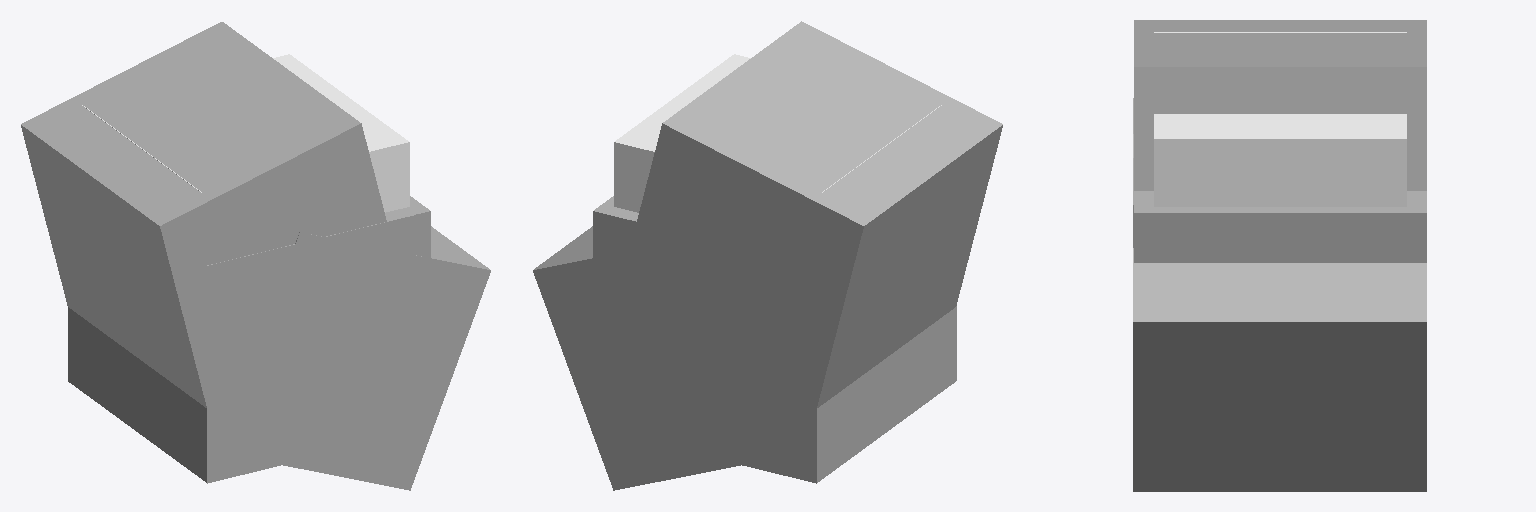
The robot description file, URDF, robot "clpai_12dof_0905":
<?xml version="1.0" encoding="utf-8"?>
<!--
This URDF was automatically created by SolidWorks to URDF Exporter! Originally created by [author] ([email redacted])
Commit Version: 1.6.0-4-g7f85cfe  Build Version: 1.6.7995.38578
For more information, please see http://wiki.ros.org/sw_urdf_exporter
-->
<robot name="clpai_12dof_0905">
	<!--
	<transmission name="l_hip_pitch_tran">
	<type>
	transmission_interface/SimpleTransmission
	</type>
	<joint name="l_hip_pitch_joint">
	<hardwareInterface>
	hardware_interface/EffortJointInterface
	</hardwareInterface>
	</joint>
	<actuator name="l_hip_pitch_motor">
	<hardwareInterface>
	hardware_interface/EffortJointInterface
	</hardwareInterface>
	<mechanicalReduction>
	1
	</mechanicalReduction>
	</actuator>
	</transmission>
	<transmission name="l_hip_roll_tran">
	<type>
	transmission_interface/SimpleTransmission
	</type>
	<joint name="l_hip_roll_joint">
	<hardwareInterface>
	hardware_interface/EffortJointInterface
	</hardwareInterface>
	</joint>
	<actuator name="l_hip_roll_motor">
	<hardwareInterface>
	hardware_interface/EffortJointInterface
	</hardwareInterface>
	<mechanicalReduction>
	1
	</mechanicalReduction>
	</actuator>
	</transmission>
	<transmission name="l_thigh_tran">
	<type>
	transmission_interface/SimpleTransmission
	</type>
	<joint name="l_thigh_joint">
	<hardwareInterface>
	hardware_interface/EffortJointInterface
	</hardwareInterface>
	</joint>
	<actuator name="l_thigh_motor">
	<hardwareInterface>
	hardware_interface/EffortJointInterface
	</hardwareInterface>
	<mechanicalReduction>
	1
	</mechanicalReduction>
	</actuator>
	</transmission>
	<transmission name="l_calf_tran">
	<type>
	transmission_interface/SimpleTransmission
	</type>
	<joint name="l_calf_joint">
	<hardwareInterface>
	hardware_interface/EffortJointInterface
	</hardwareInterface>
	</joint>
	<actuator name="l_calf_motor">
	<hardwareInterface>
	hardware_interface/EffortJointInterface
	</hardwareInterface>
	<mechanicalReduction>
	1
	</mechanicalReduction>
	</actuator>
	</transmission>
	<transmission name="l_ankle_pitch_tran">
	<type>
	transmission_interface/SimpleTransmission
	</type>
	<joint name="l_ankle_pitch_joint">
	<hardwareInterface>
	hardware_interface/EffortJointInterface
	</hardwareInterface>
	</joint>
	<actuator name="l_ankle_pitch_motor">
	<hardwareInterface>
	hardware_interface/EffortJointInterface
	</hardwareInterface>
	<mechanicalReduction>
	1
	</mechanicalReduction>
	</actuator>
	</transmission>
	<transmission name="l_ankle_roll_tran">
	<type>
	transmission_interface/SimpleTransmission
	</type>
	<joint name="l_ankle_roll_joint">
	<hardwareInterface>
	hardware_interface/EffortJointInterface
	</hardwareInterface>
	</joint>
	<actuator name="l_ankle_roll_motor">
	<hardwareInterface>
	hardware_interface/EffortJointInterface
	</hardwareInterface>
	<mechanicalReduction>
	1
	</mechanicalReduction>
	</actuator>
	</transmission>
	<transmission name="r_hip_pitch_tran">
	<type>
	transmission_interface/SimpleTransmission
	</type>
	<joint name="r_hip_pitch_joint">
	<hardwareInterface>
	hardware_interface/EffortJointInterface
	</hardwareInterface>
	</joint>
	<actuator name="r_hip_pitch_motor">
	<hardwareInterface>
	hardware_interface/EffortJointInterface
	</hardwareInterface>
	<mechanicalReduction>
	1
	</mechanicalReduction>
	</actuator>
	</transmission>
	<transmission name="r_hip_roll_tran">
	<type>
	transmission_interface/SimpleTransmission
	</type>
	<joint name="r_hip_roll_joint">
	<hardwareInterface>
	hardware_interface/EffortJointInterface
	</hardwareInterface>
	</joint>
	<actuator name="r_hip_roll_motor">
	<hardwareInterface>
	hardware_interface/EffortJointInterface
	</hardwareInterface>
	<mechanicalReduction>
	1
	</mechanicalReduction>
	</actuator>
	</transmission>
	<transmission name="r_thigh_tran">
	<type>
	transmission_interface/SimpleTransmission
	</type>
	<joint name="r_thigh_joint">
	<hardwareInterface>
	hardware_interface/EffortJointInterface
	</hardwareInterface>
	</joint>
	<actuator name="r_thigh_motor">
	<hardwareInterface>
	hardware_interface/EffortJointInterface
	</hardwareInterface>
	<mechanicalReduction>
	1
	</mechanicalReduction>
	</actuator>
	</transmission>
	<transmission name="r_calf_tran">
	<type>
	transmission_interface/SimpleTransmission
	</type>
	<joint name="r_calf_joint">
	<hardwareInterface>
	hardware_interface/EffortJointInterface
	</hardwareInterface>
	</joint>
	<actuator name="r_calf_motor">
	<hardwareInterface>
	hardware_interface/EffortJointInterface
	</hardwareInterface>
	<mechanicalReduction>
	1
	</mechanicalReduction>
	</actuator>
	</transmission>
	<transmission name="r_ankle_pitch_tran">
	<type>
	transmission_interface/SimpleTransmission
	</type>
	<joint name="r_ankle_pitch_joint">
	<hardwareInterface>
	hardware_interface/EffortJointInterface
	</hardwareInterface>
	</joint>
	<actuator name="r_ankle_pitch_motor">
	<hardwareInterface>
	hardware_interface/EffortJointInterface
	</hardwareInterface>
	<mechanicalReduction>
	1
	</mechanicalReduction>
	</actuator>
	</transmission>
	<transmission name="r_ankle_roll_tran">
	<type>
	transmission_interface/SimpleTransmission
	</type>
	<joint name="r_ankle_roll_joint">
	<hardwareInterface>
	hardware_interface/EffortJointInterface
	</hardwareInterface>
	</joint>
	<actuator name="r_ankle_roll_motor">
	<hardwareInterface>
	hardware_interface/EffortJointInterface
	</hardwareInterface>
	<mechanicalReduction>
	1
	</mechanicalReduction>
	</actuator>
	</transmission>
	-->
	<!--
	<gazebo>
	<plugin name="gazebo_ros_control" filename="libgazebo_ros_control.so">
	<robotNamespace>
	/pai_cl_12_240823
	</robotNamespace>
	<robotSimType>
	gazebo_ros_control/DefaultRobotHWSim
	</robotSimType>
	</plugin>
	</gazebo>
	-->
	<mujoco>
		<compiler meshdir="meshes/" balanceinertia="true" discardvisual="false" />
	</mujoco>
	<!-- <link name="base_link">
		<inertial>
			<origin xyz="0 0 0" rpy="0 0 0" />
			<mass value="0" />
			<inertia ixx="0" ixy="0" ixz="0" iyy="0" iyz="0" izz="0" />
		</inertial>
		<visual>
			<origin xyz="0 0 0" rpy="0 0 0" />
			<geometry>
				<box size="0.001 0.001 0.001" />
			</geometry>
			<material name="">
				<color rgba="1 1 1 1" />
			</material>
		</visual>
		<collision>
			<origin xyz="0 0 0.0" rpy="0 0 0" />
			<geometry>
				<box size="0.0001 0.0001 0.0001" />
			</geometry>
		</collision>
	</link> -->
	<!-- <joint name="base_joint" type="fixed">
		<origin xyz="0.0 0.0 0.0" rpy="0.0 0.0 0.0" />
		<parent link="base_link" />
		<child link="base_trunk" />
	</joint> -->
	<link name="base_link">
		<inertial>
			<origin xyz="0.00242324 -5.699E-05 0.04030078" rpy="0 0 0" />
			<mass value="2.1609" />
			<inertia ixx="0.00900968" ixy="-2.533E-05" ixz="-0.00013112" iyy="0.00978166" iyz="2E-07" izz="0.00416554" />
		</inertial>
		<visual>
			<origin xyz="0 0 0" rpy="0 0 0" />
			<geometry>
				<!-- <box size="0.1 0.1 0.1" /> -->
				<mesh filename="meshes/baselink_1.STL" />
			</geometry>
			<material name="">
				<color rgba="1 1 1 1" />
			</material>
		</visual>
		<collision>
			<origin xyz="0 0 0.08" rpy="0 0 0" />
			<geometry>
				<box size="0.1 0.1 0.1" />
				<!-- <mesh filename="meshes/base_link.STL" /> -->
			</geometry>
		</collision>
	</link>
	<link name="imu_link">
		<inertial>
			<origin xyz="0 0 0" rpy="0 0 0" />
			<mass value="0.01" />
			<inertia ixx="4.1667E-07" ixy="0" ixz="0" iyy="8.3333E-07" iyz="0" izz="1.0833E-06" />
		</inertial>
		<visual>
			<origin xyz="0 0 0" rpy="0 0 0" />
			<geometry>
				<box size="0.03 0.02 0.01" />
			</geometry>
			<material name="">
				<color rgba="0.1 0.1 0.1 1" />
			</material>
		</visual>
		<collision>
			<origin xyz="0 0 0" rpy="0 0 0" />
			<geometry>
				<box size="0.03 0.02 0.01" />
			</geometry>
		</collision>
	</link>
	<joint name="imu_joint" type="fixed">
		<origin xyz="0 0 0.05" rpy="0 0 0" />
		<parent link="base_link" />
		<child link="imu_link" />
	</joint>
	<link name="camera_mount_link">
		<inertial>
			<origin xyz="0 0 0" rpy="0 0 0" />
			<mass value="0.02" />
			<inertia ixx="5.3333E-06" ixy="0" ixz="0" iyy="5.3333E-06" iyz="0" izz="5.3333E-06" />
		</inertial>
		<visual>
			<origin xyz="0 0 0" rpy="0 0 0" />
			<geometry>
				<box size="0.04 0.04 0.04" />
			</geometry>
			<material name="">
				<color rgba="0.05 0.05 0.05 1" />
			</material>
		</visual>
		<collision>
			<origin xyz="0 0 0" rpy="0 0 0" />
			<geometry>
				<box size="0.04 0.04 0.04" />
			</geometry>
		</collision>
	</link>
	<joint name="camera_mount_joint" type="fixed">
		<origin xyz="0.12 0 0.15" rpy="0 0 0" />
		<parent link="base_link" />
		<child link="camera_mount_link" />
	</joint>
	<link name="camera_optical_frame">
		<inertial>
			<origin xyz="0 0 0" rpy="0 0 0" />
			<mass value="1E-05" />
			<inertia ixx="1E-07" ixy="0" ixz="0" iyy="1E-07" iyz="0" izz="1E-07" />
		</inertial>
		<visual>
			<origin xyz="0 0 0" rpy="0 0 0" />
			<geometry>
				<sphere radius="0.001" />
			</geometry>
		</visual>
		<collision>
			<origin xyz="0 0 0" rpy="0 0 0" />
			<geometry>
				<sphere radius="0.001" />
			</geometry>
		</collision>
	</link>
	<joint name="camera_optical_joint" type="fixed">
		<origin xyz="0 0 0" rpy="-1.57079632679 0 -1.57079632679" />
		<parent link="camera_mount_link" />
		<child link="camera_optical_frame" />
	</joint>
	<gazebo reference="imu_link">
		<sensor type="imu" name="base_imu">
			<pose>0 0 0 0 0 0</pose>
			<always_on>true</always_on>
			<update_rate>200</update_rate>
			<plugin name="imu_plugin" filename="libgazebo_ros_imu_sensor.so">
				<robotNamespace>/clpai_12dof_0905</robotNamespace>
				<bodyName>imu_link</bodyName>
				<topicName>imu/data</topicName>
				<frameName>imu_link</frameName>
			</plugin>
		</sensor>
	</gazebo>
	<gazebo reference="camera_mount_link">
		<sensor type="camera" name="front_camera">
			<pose>0 0 0 0 0 0</pose>
			<always_on>true</always_on>
			<update_rate>30</update_rate>
			<camera name="front_camera_sensor">
				<horizontal_fov>1.047</horizontal_fov>
				<image>
					<width>1280</width>
					<height>720</height>
					<format>R8G8B8</format>
				</image>
				<clip>
					<near>0.1</near>
					<far>50</far>
				</clip>
			</camera>
			<plugin name="camera_controller" filename="libgazebo_ros_camera.so">
				<robotNamespace>/clpai_12dof_0905</robotNamespace>
				<cameraName>front_camera</cameraName>
				<imageTopicName>image_raw</imageTopicName>
				<cameraInfoTopicName>camera_info</cameraInfoTopicName>
				<frameName>camera_optical_frame</frameName>
			</plugin>
		</sensor>
	</gazebo>
	<link name="r_hip_pitch_link">
		<inertial>
			<origin xyz="0.00089428 -0.05527744 -0.00027276" rpy="0 0 0" />
			<mass value="0.36999771" />
			<inertia ixx="8.307E-05" ixy="2E-07" ixz="-5E-08" iyy="9.81E-05" iyz="-7E-07" izz="0.0001085" />
		</inertial>
		<visual>
			<origin xyz="0 0 0" rpy="0 0 0" />
			<geometry>
				<mesh filename="meshes/r_hip_pitch_link.STL" />
			</geometry>
			<material name="">
				<color rgba="0.75294 0.75294 0.75294 1" />
			</material>
		</visual>
		<collision>
			<origin xyz="0 0 0" rpy="0 0 0" />
			<geometry>
				<box size="0.001 0.001 0.001" />
				<!-- <mesh filename="meshes/r_hip_pitch_link.STL" /> -->
			</geometry>
		</collision>
	</link>
	<joint name="r_hip_pitch_joint" type="revolute">
		<origin xyz="-5.1979E-05 -0.0233 -0.033" rpy="0 -0.25 0" />
		<parent link="base_link" />
		<child link="r_hip_pitch_link" />
		<axis xyz="0 1 0" />
		<limit lower="-1.25" upper="1.75" effort="21" velocity="21" />
	</joint>
	<link name="r_hip_roll_link">
		<inertial>
			<origin xyz="-0.00180153 0.00025956 -0.0608194" rpy="0 0 0" />
			<mass value="0.38851552" />
			<inertia ixx="0.00027042" ixy="3.9E-07" ixz="3.312E-05" iyy="0.0003342" iyz="8.7E-07" izz="0.00013617" />
		</inertial>
		<visual>
			<origin xyz="0 0 0" rpy="0 0 0" />
			<geometry>
				<mesh filename="meshes/r_hip_roll_link.STL" />
			</geometry>
			<material name="">
				<color rgba="0.75294 0.75294 0.75294 1" />
			</material>
		</visual>
		<collision>
			<origin xyz="0 0 0" rpy="0 0 0" />
			<geometry>
				<box size="0.001 0.001 0.001" />
				<!-- <mesh filename="meshes/r_hip_roll_link.STL" /> -->
			</geometry>
		</collision>
	</link>
	<joint name="r_hip_roll_joint" type="revolute">
		<origin xyz="0.00025 -0.0568 0" rpy="0 0 0" />
		<parent link="r_hip_pitch_link" />
		<child link="r_hip_roll_link" />
		<axis xyz="1 0 0" />
		<limit lower="-0.5" upper="0.12" effort="21" velocity="21" />
	</joint>
	<link name="r_thigh_link">
		<inertial>
			<origin xyz="0 0.00116854 -0.04755896" rpy="0 0 0" />
			<mass value="0.11270879" />
			<inertia ixx="0.00012496" ixy="0" ixz="0" iyy="5.82E-05" iyz="3.19E-06" izz="9.438E-05" />
		</inertial>
		<visual>
			<origin xyz="0 0 0" rpy="0 0 0" />
			<geometry>
				<mesh filename="meshes/r_thigh_link.STL" />
			</geometry>
			<material name="">
				<color rgba="0.75294 0.75294 0.75294 1" />
			</material>
		</visual>
		<collision>
			<origin xyz="0 0 0" rpy="0 0 0" />
			<geometry>
				<box size="0.001 0.001 0.001" />
				<!-- <mesh filename="meshes/r_thigh_link.STL" /> -->
			</geometry>
		</collision>
	</link>
	<joint name="r_thigh_joint" type="revolute">
		<origin xyz="-0.00025 0 -0.06925" rpy="0 0 0" />
		<parent link="r_hip_roll_link" />
		<child link="r_thigh_link" />
		<axis xyz="0 0 1" />
		<limit lower="-0.6" upper="0.3" effort="21" velocity="21" />
	</joint>
	<link name="r_calf_link">
		<inertial>
			<origin xyz="-0.00026627 -0.00116537 -0.06971210" rpy="0 0 0" />
			<mass value="0.81374212" />
			<inertia ixx="0.00352123" ixy="0.00000020" ixz="-0.00000072" iyy="0.00349946" iyz="-0.00002072" izz="0.00017468" />
		</inertial>
		<visual>
			<origin xyz="0 0 0" rpy="0 0 0" />
			<geometry>
				<mesh filename="meshes/r_calf_link.STL" />
			</geometry>
			<material name="">
				<color rgba="0.75294 0.75294 0.75294 1" />
			</material>
		</visual>
		<collision>
			<origin xyz="0 0 0" rpy="0 0 0" />
			<geometry>
				<box size="0.001 0.001 0.001" />
				<!-- <mesh filename="meshes/r_calf_link.STL" /> -->
			</geometry>
		</collision>
	</link>
	<joint name="r_calf_joint" type="revolute">
		<origin xyz="0 -0.0027 -0.07025" rpy="0 0.65 0" />
		<parent link="r_thigh_link" />
		<child link="r_calf_link" />
		<axis xyz="0 1 0" />
		<limit lower="-0.65" upper="1.65" effort="21" velocity="21" />
	</joint>
	<link name="r_ankle_pitch_link">
		<inertial>
			<origin xyz="0.00467932 0.00347699 0" rpy="0 0 0" />
			<mass value="0.1759244" />
			<inertia ixx="0.00011981" ixy="6.4E-07" ixz="0" iyy="0.00022179" iyz="0" izz="0.00030766" />
		</inertial>
		<visual>
			<origin xyz="0 0 0" rpy="0 0 0" />
			<geometry>
				<mesh filename="meshes/r_ankle_pitch_link.STL" />
			</geometry>
			<material name="">
				<color rgba="0.75294 0.75294 0.75294 1" />
			</material>
		</visual>
		<collision>
			<origin xyz="0 0 0" rpy="0 0 0" />
			<geometry>
				<box size="0.001 0.001 0.001" />
				<!-- <mesh filename="meshes/r_ankle_pitch_link.STL" /> -->
			</geometry>
		</collision>
	</link>
	<joint name="r_ankle_pitch_joint" type="revolute">
		<origin xyz="0 0 -0.14" rpy="0 -0.4 0" />
		<parent link="r_calf_link" />
		<child link="r_ankle_pitch_link" />
		<axis xyz="0 1 0" />
		<limit lower="-0.5" upper="1.3" effort="21" velocity="21" />
	</joint>
	<link name="r_ankle_roll_link">
		<inertial>
			<origin xyz="-0.02383679 0.00019256 -0.0144649" rpy="0 0 0" />
			<mass value="0.51868476" />
			<inertia ixx="0.0003308" ixy="-2.49E-06" ixz="-0.00018245" iyy="0.00113168" iyz="-1.06E-06" izz="0.00098381" />
		</inertial>
		<visual>
			<origin xyz="0 0 0" rpy="0 0 0" />
			<geometry>
				<mesh filename="meshes/r_ankle_roll_link.STL" />
			</geometry>
			<material name="">
				<color rgba="0.75294 0.75294 0.75294 1" />
			</material>
		</visual>
		<collision>
			<origin xyz="0 0 0" rpy="0 0 0" />
			<geometry>
				<mesh filename="meshes/r_ankle_roll_link.STL" />
			</geometry>
		</collision>
	</link>
	<joint name="r_ankle_roll_joint" type="revolute">
		<origin xyz="0.07525 0.0027 0" rpy="0 0 0" />
		<parent link="r_ankle_pitch_link" />
		<child link="r_ankle_roll_link" />
		<axis xyz="1 0 0" />
		<limit lower="-0.3" upper="0.8" effort="21" velocity="21" />
	</joint>
	<link name="l_hip_pitch_link">
		<inertial>
			<origin xyz="0.00086268 0.05441908 -0.00025859" rpy="0 0 0" />
			<mass value="0.38968624" />
			<inertia ixx="0.00010076" ixy="-4.2E-07" ixz="-4E-08" iyy="0.00010507" iyz="-3E-07" izz="0.00012834" />
		</inertial>
		<visual>
			<origin xyz="0 0 0" rpy="0 0 0" />
			<geometry>
				<mesh filename="meshes/l_hip_pitch_link.STL" />
			</geometry>
			<material name="">
				<color rgba="0.75294 0.75294 0.75294 1" />
			</material>
		</visual>
		<collision>
			<origin xyz="0 0 0" rpy="0 0 0" />
			<geometry>
				<box size="0.001 0.001 0.001" />
				<!-- <mesh filename="meshes/l_hip_pitch_link.STL" /> -->
			</geometry>
		</collision>
	</link>
	<joint name="l_hip_pitch_joint" type="revolute">
		<origin xyz="-5.1979E-05 0.0233 -0.033" rpy="0 -0.25 0" />
		<parent link="base_link" />
		<child link="l_hip_pitch_link" />
		<axis xyz="0 1 0" />
		<limit lower="-1.25" upper="1.75" effort="21" velocity="21" />
	</joint>
	<link name="l_hip_roll_link">
		<inertial>
			<origin xyz="-0.00207707 0.00026598 -0.0608194" rpy="0 0 0" />
			<mass value="0.38851552" />
			<inertia ixx="0.00027068" ixy="-7.6E-07" ixz="3.136E-05" iyy="0.0003332" iyz="8.8E-07" izz="0.00013543" />
		</inertial>
		<visual>
			<origin xyz="0 0 0" rpy="0 0 0" />
			<geometry>
				<mesh filename="meshes/l_hip_roll_link.STL" />
			</geometry>
			<material name="">
				<color rgba="0.75294 0.75294 0.75294 1" />
			</material>
		</visual>
		<collision>
			<origin xyz="0 0 0" rpy="0 0 0" />
			<geometry>
				<box size="0.001 0.001 0.001" />
				<!-- <mesh filename="meshes/l_hip_roll_link.STL" /> -->
			</geometry>
		</collision>
	</link>
	<joint name="l_hip_roll_joint" type="revolute">
		<origin xyz="0 0.0568 0" rpy="0 0 0" />
		<parent link="l_hip_pitch_link" />
		<child link="l_hip_roll_link" />
		<axis xyz="1 0 0" />
		<limit lower="-0.12" upper="0.5" effort="21" velocity="21" />
	</joint>
	<link name="l_thigh_link">
		<inertial>
			<origin xyz="0 -0.00115822 -0.04755896" rpy="0 0 0" />
			<mass value="0.11270879" />
			<inertia ixx="0.00012497" ixy="0" ixz="0" iyy="5.82E-05" iyz="-3.21E-06" izz="9.438E-05" />
		</inertial>
		<visual>
			<origin xyz="0 0 0" rpy="0 0 0" />
			<geometry>
				<mesh filename="meshes/l_thigh_link.STL" />
			</geometry>
			<material name="">
				<color rgba="0.75294 0.75294 0.75294 1" />
			</material>
		</visual>
		<collision>
			<origin xyz="0 0 0" rpy="0 0 0" />
			<geometry>
				<box size="0.001 0.001 0.001" />
				<!-- <mesh filename="meshes/l_thigh_link.STL" /> -->
			</geometry>
		</collision>
	</link>
	<joint name="l_thigh_joint" type="revolute">
		<origin xyz="0 0 -0.06925" rpy="0 0 0" />
		<parent link="l_hip_roll_link" />
		<child link="l_thigh_link" />
		<axis xyz="0 0 1" />
		<limit lower="-0.3" upper="0.6" effort="21" velocity="21" />
	</joint>
	<link name="l_calf_link">
		<inertial>
			<origin xyz="0.00026627 0.00386537 -0.06971210" rpy="0 0 0" />
			<mass value="0.81374212" />
			<inertia ixx="0.00352123" ixy="0.00000020" ixz="0.00000072" iyy="0.00349946" iyz="0.00002072" izz="0.00017468" />
		</inertial>
		<visual>
			<origin xyz="0 0 0" rpy="0 0 0" />
			<geometry>
				<mesh filename="meshes/l_calf_link.STL" />
			</geometry>
			<material name="">
				<color rgba="0.75294 0.75294 0.75294 1" />
			</material>
		</visual>
		<collision>
			<origin xyz="0 0 0" rpy="0 0 0" />
			<geometry>
				<box size="0.001 0.001 0.001" />
				<!-- <mesh filename="meshes/l_calf_link.STL" /> -->
			</geometry>
		</collision>
	</link>
	<joint name="l_calf_joint" type="revolute">
		<origin xyz="0 0 -0.07025" rpy="0 0.65 0" />
		<parent link="l_thigh_link" />
		<child link="l_calf_link" />
		<axis xyz="0 1 0" />
		<limit lower="-0.65" upper="1.65" effort="21" velocity="21" />
	</joint>
	<link name="l_ankle_pitch_link">
		<inertial>
			<origin xyz="0.00467932 -0.00077699 0" rpy="0 0 0" />
			<mass value="0.1759244" />
			<inertia ixx="0.00011981" ixy="-6.4E-07" ixz="0" iyy="0.00022179" iyz="0" izz="0.00030766" />
		</inertial>
		<visual>
			<origin xyz="0 0 0" rpy="0 0 0" />
			<geometry>
				<mesh filename="meshes/l_ankle_pitch_link.STL" />
			</geometry>
			<material name="">
				<color rgba="0.75294 0.75294 0.75294 1" />
			</material>
		</visual>
		<collision>
			<origin xyz="0 0 0" rpy="0 0 0" />
			<geometry>
				<box size="0.001 0.001 0.001" />
				<!-- <mesh filename="meshes/l_ankle_pitch_link.STL" /> -->
			</geometry>
		</collision>
	</link>
	<joint name="l_ankle_pitch_joint" type="revolute">
		<origin xyz="0 0 -0.14" rpy="0 -0.4 0" />
		<parent link="l_calf_link" />
		<child link="l_ankle_pitch_link" />
		<axis xyz="0 1 0" />
		<limit lower="-0.5" upper="1.3" effort="21" velocity="21" />
	</joint>
	<link name="l_ankle_roll_link">
		<inertial>
			<origin xyz="-0.02383679 0.00019256 -0.0144649" rpy="0 0 0" />
			<mass value="0.51868476" />
			<inertia ixx="0.0003308" ixy="-2.49E-06" ixz="-0.00018245" iyy="0.00113168" iyz="-1.06E-06" izz="0.00098381" />
		</inertial>
		<visual>
			<origin xyz="0 0 0" rpy="0 0 0" />
			<geometry>
				<mesh filename="meshes/l_ankle_roll_link.STL" />
			</geometry>
			<material name="">
				<color rgba="0.75294 0.75294 0.75294 1" />
			</material>
		</visual>
		<collision>
			<origin xyz="0 0 0" rpy="0 0 0" />
			<geometry>
				<mesh filename="meshes/l_ankle_roll_link.STL" />
			</geometry>
		</collision>
	</link>
	<joint name="l_ankle_roll_joint" type="revolute">
		<origin xyz="0.07525 0 0" rpy="0 0 0" />
		<parent link="l_ankle_pitch_link" />
		<child link="l_ankle_roll_link" />
		<axis xyz="1 0 0" />
		<limit lower="-0.8" upper="0.3" effort="21" velocity="21" />
	</joint>
</robot>

--- Facts derived from the render (not from the file) ---
Views: 3 orthographic renders of the robot side by side, from view 1: azimuth 30°, elevation 25°; view 2: azimuth 150°, elevation 25°; view 3: azimuth 270°, elevation 25°.
Model clpai_12dof_0905 with 16 links and 15 joints (12 revolute, 3 fixed), rooted at base_link, posed every joint at zero.
Visible links, largest first — view 1: r_calf_link, r_hip_roll_link, r_ankle_pitch_link, l_hip_roll_link, r_thigh_link, l_hip_pitch_link, base_link, l_ankle_pitch_link, r_hip_pitch_link, r_ankle_roll_link; view 2: l_hip_roll_link, l_calf_link, r_hip_roll_link, l_hip_pitch_link, l_ankle_pitch_link, r_ankle_pitch_link, l_ankle_roll_link, r_thigh_link, base_link, r_hip_pitch_link, l_thigh_link; view 3: r_calf_link, r_hip_roll_link, base_link, l_calf_link, r_ankle_roll_link, l_ankle_roll_link, l_hip_roll_link, l_hip_pitch_link, l_thigh_link, r_hip_pitch_link.
Link boxes in pixels (x1,y1,x2,y2): r_calf_link: [219, 226, 490, 490]; r_hip_roll_link: [40, 35, 381, 405]; r_ankle_pitch_link: [87, 208, 415, 483]; l_hip_roll_link: [21, 22, 326, 393]; r_thigh_link: [80, 137, 386, 407]; l_hip_pitch_link: [27, 84, 209, 396]; base_link: [82, 54, 409, 212]; l_ankle_pitch_link: [68, 307, 187, 466]; r_hip_pitch_link: [33, 87, 343, 316]; r_ankle_roll_link: [385, 197, 430, 257]; l_hip_roll_link: [612, 36, 983, 422]; l_calf_link: [533, 228, 804, 490]; r_hip_roll_link: [682, 21, 1002, 211]; l_hip_pitch_link: [670, 34, 990, 355]; l_ankle_pitch_link: [608, 208, 930, 483]; r_ankle_pitch_link: [836, 306, 956, 468]; l_ankle_roll_link: [593, 197, 800, 479]; r_thigh_link: [845, 138, 999, 363]; base_link: [614, 54, 941, 212]; r_hip_pitch_link: [678, 26, 996, 319]; l_thigh_link: [614, 158, 941, 437]; r_calf_link: [1133, 134, 1385, 491]; r_hip_roll_link: [1134, 20, 1386, 190]; base_link: [1154, 32, 1406, 206]; l_calf_link: [1174, 263, 1426, 491]; r_ankle_roll_link: [1134, 205, 1386, 262]; l_ankle_roll_link: [1174, 205, 1426, 262]; l_hip_roll_link: [1387, 20, 1426, 190]; l_hip_pitch_link: [1387, 20, 1412, 190]; l_thigh_link: [1387, 85, 1426, 189]; r_hip_pitch_link: [1387, 20, 1400, 112].
Size in the robot's own frame: 1.59 by 1.16 by 1.74 metres.
Meshes: 13 distinct files referenced, 13 mesh visuals loaded (13 ASCII STL).
